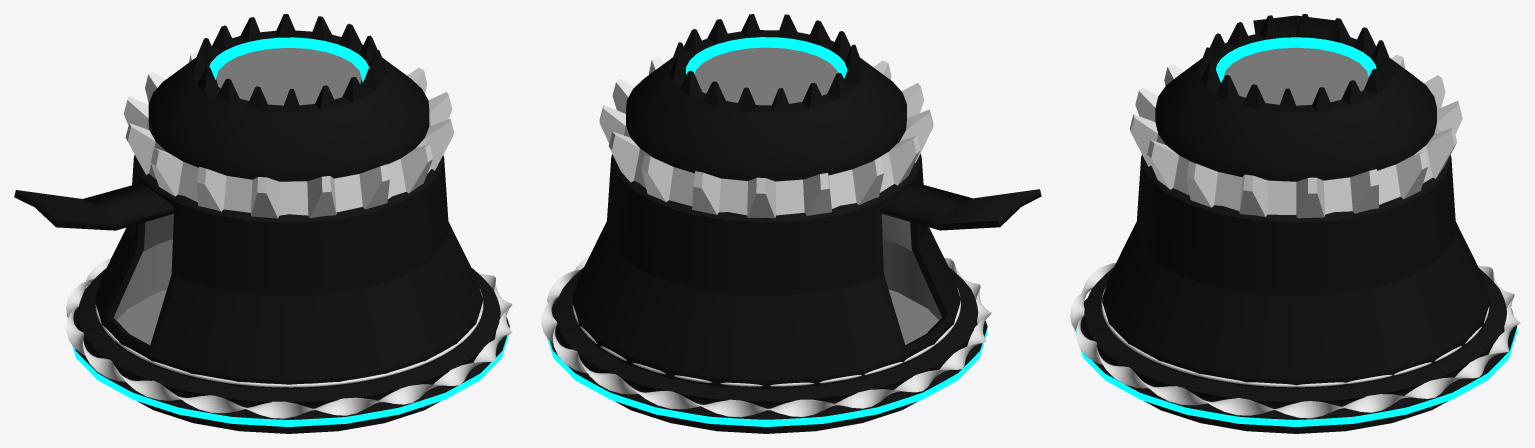
Rendered from Drill_1a.fbx.
3 renders of one model, left to right at view 1: azimuth 30°, elevation 25°; view 2: azimuth 150°, elevation 25°; view 3: azimuth 270°, elevation 25°, orthographic.
Parts seen in each view (by area): view 1: Cone001, Upper Drill Bits, Lower Drill Bits, Torus Knot003, Door, Torus Knot002; view 2: Cone001, Upper Drill Bits, Lower Drill Bits, Torus Knot003, Door, Torus Knot002; view 3: Cone001, Upper Drill Bits, Lower Drill Bits, Torus Knot003, Torus Knot002, Door.
Boxes of the visible parts, x1,y1,x2,y2 form: Cone001: [72, 48, 509, 433]; Upper Drill Bits: [148, 14, 429, 181]; Lower Drill Bits: [124, 52, 454, 218]; Torus Knot003: [66, 258, 512, 418]; Door: [14, 183, 174, 230]; Torus Knot002: [95, 289, 483, 387]; Cone001: [547, 47, 987, 433]; Upper Drill Bits: [626, 14, 906, 181]; Lower Drill Bits: [599, 57, 933, 218]; Torus Knot003: [541, 255, 991, 417]; Door: [881, 182, 1041, 230]; Torus Knot002: [572, 288, 960, 386]; Cone001: [1075, 47, 1517, 433]; Upper Drill Bits: [1155, 14, 1436, 181]; Lower Drill Bits: [1130, 54, 1462, 218]; Torus Knot003: [1070, 263, 1520, 418]; Torus Knot002: [1101, 287, 1489, 387]; Door: [1253, 15, 1334, 33].
Size of the model in its own units: 309 by 197 by 268.
